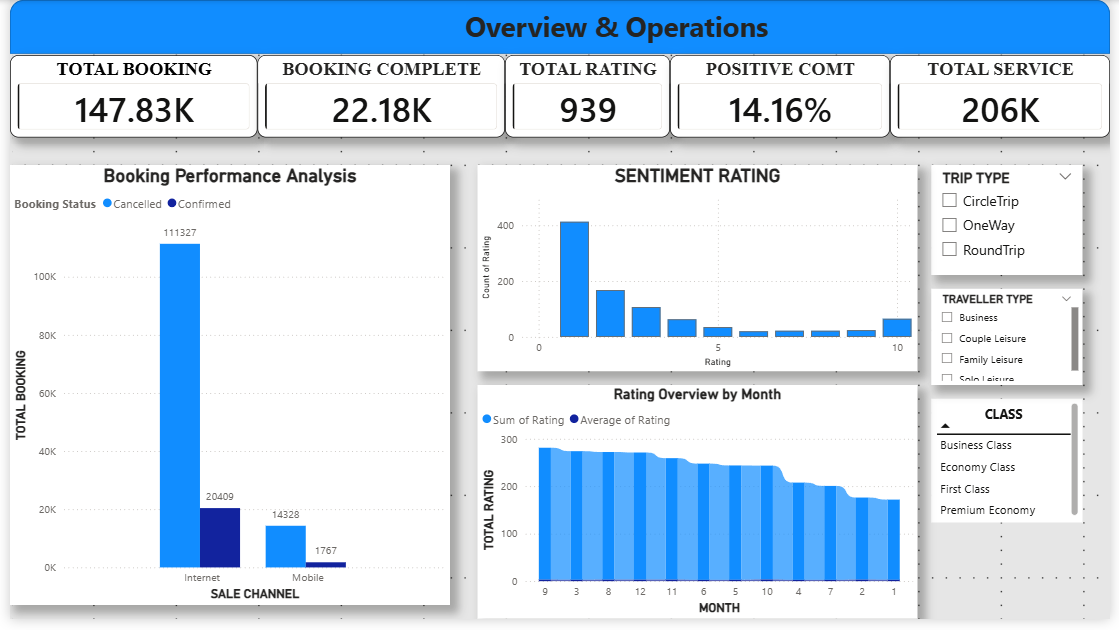

The page's visual inventory and layout, read from the dashboard file:
{"tool":"powerbi","page":{"name":"Overview & Operations","canvas":[1280,720],"ordinal":0},"visuals":[{"type":"shape","box":[0,0,1280,62.7],"z":0},{"type":"textbox","box":[323.7,4.2,763.1,58.3],"z":1000},{"type":"cardVisual","title":"TOTAL BOOKING","fields":{"Data":["Final_Booking_for_Dashboard.Total Bookings"]},"box":[0,64,288,96],"z":2000},{"type":"cardVisual","title":"BOOKING COMPLETE","fields":{"Data":["Sum(Final_Booking_for_Dashboard.booking_complete)"]},"box":[288,64,288,96],"z":3000},{"type":"cardVisual","title":"TOTAL RATING","fields":{"Data":["CountNonNull(Final_Reviews_Cleaned (2).Rating)"]},"box":[576,64,192,96],"z":4000},{"type":"cardVisual","title":"POSITIVE COMT","fields":{"Data":["Final_Reviews_Cleaned (2).Per_Posi_Comt"]},"box":[768,64,256,96],"z":5000},{"type":"clusteredColumnChart","title":"Booking Performance Analysis","fields":{"Category":["Final_Booking_for_Dashboard.sales_channel"],"Y":["Cleaned_Passenger_Booking.Total Bookings"],"Series":["Cleaned_Passenger_Booking.Booking Status"]},"box":[0,192,512,512],"z":6000},{"type":"slicer","fields":{"Values":["Final_Booking_for_Dashboard.trip_type"]},"box":[1072,192,176,128],"z":7000},{"type":"clusteredColumnChart","title":"SENTIMENT RATING","fields":{"Y":["CountNonNull(Cleaned_Airline_Review_Full.Rating)"],"Category":["Cleaned_Airline_Review_Full.Rating"]},"box":[544,192,512,240],"z":8000},{"type":"tableEx","fields":{"Values":["Final_Reviews_Cleaned (2).Class"]},"box":[1072,464,176,144],"z":9000},{"type":"ribbonChart","title":"Rating Overview by Month","fields":{"Category":["Final_Reviews_Cleaned (2).Month_Num"],"Y":["Sum(Cleaned_Airline_Review_Full.Rating)","Avg(Cleaned_Airline_Review_Full.Rating)"]},"box":[544,448,512,272],"z":10000},{"type":"slicer","fields":{"Values":["Final_Reviews_Cleaned (2).Traveller_type"]},"box":[1072,336,176,112],"z":11000},{"type":"cardVisual","title":"TOTAL SERVICE","fields":{"Data":["Sum(Cleaned_Passenger_Booking.total_extra_services)"]},"box":[1024,64,256,96],"z":12000}]}

Visuals, with their boxes in screenshot pixels (x1, y1, x2, y2), scaled from the page's 1280x720 canvas onto the 1119x630 screenshot:
shape: l=0, t=0, r=1118, b=55
textbox: l=283, t=4, r=950, b=55
"TOTAL BOOKING" cardVisual: l=0, t=56, r=252, b=140
"BOOKING COMPLETE" cardVisual: l=252, t=56, r=504, b=140
"TOTAL RATING" cardVisual: l=504, t=56, r=671, b=140
"POSITIVE COMT" cardVisual: l=671, t=56, r=895, b=140
"Booking Performance Analysis" clusteredColumnChart: l=0, t=168, r=448, b=616
slicer - Final_Booking_for_Dashboard.trip_type: l=937, t=168, r=1091, b=280
"SENTIMENT RATING" clusteredColumnChart: l=476, t=168, r=923, b=378
tableEx - Final_Reviews_Cleaned (2).Class: l=937, t=406, r=1091, b=532
"Rating Overview by Month" ribbonChart: l=476, t=392, r=923, b=629
slicer - Final_Reviews_Cleaned (2).Traveller_type: l=937, t=294, r=1091, b=392
"TOTAL SERVICE" cardVisual: l=895, t=56, r=1118, b=140
